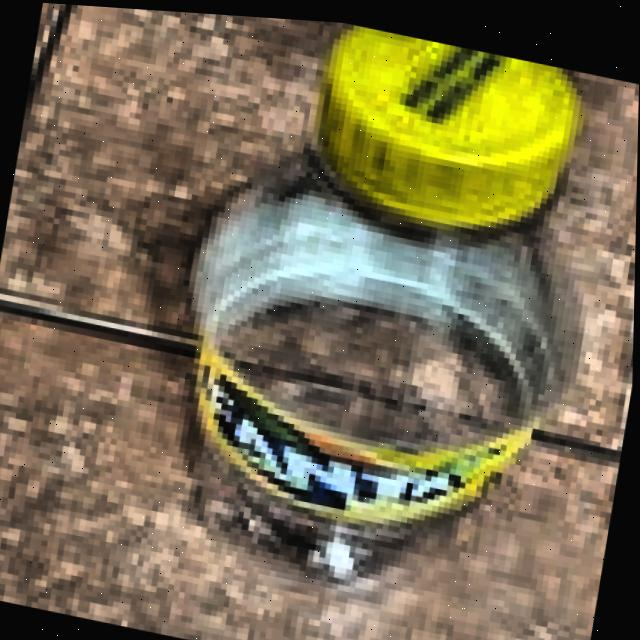plastic: (38, 3, 640, 640)
